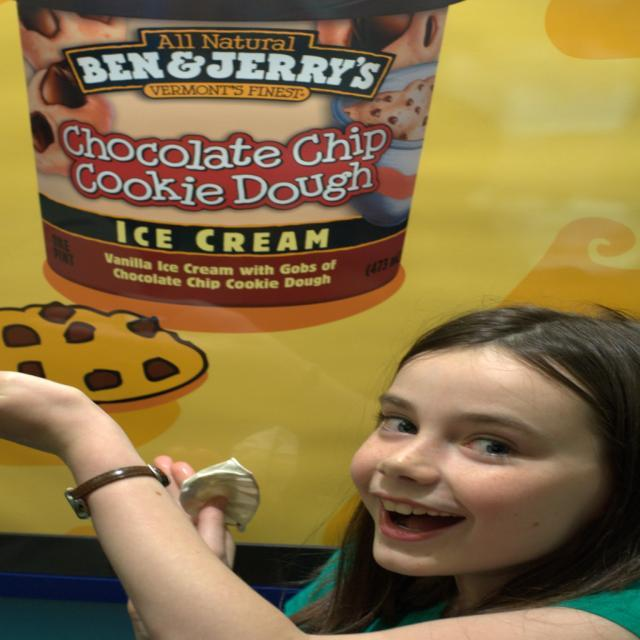Cookie: (0, 301, 221, 402), (23, 66, 114, 178), (321, 5, 449, 71), (18, 5, 130, 71), (337, 76, 437, 142)
